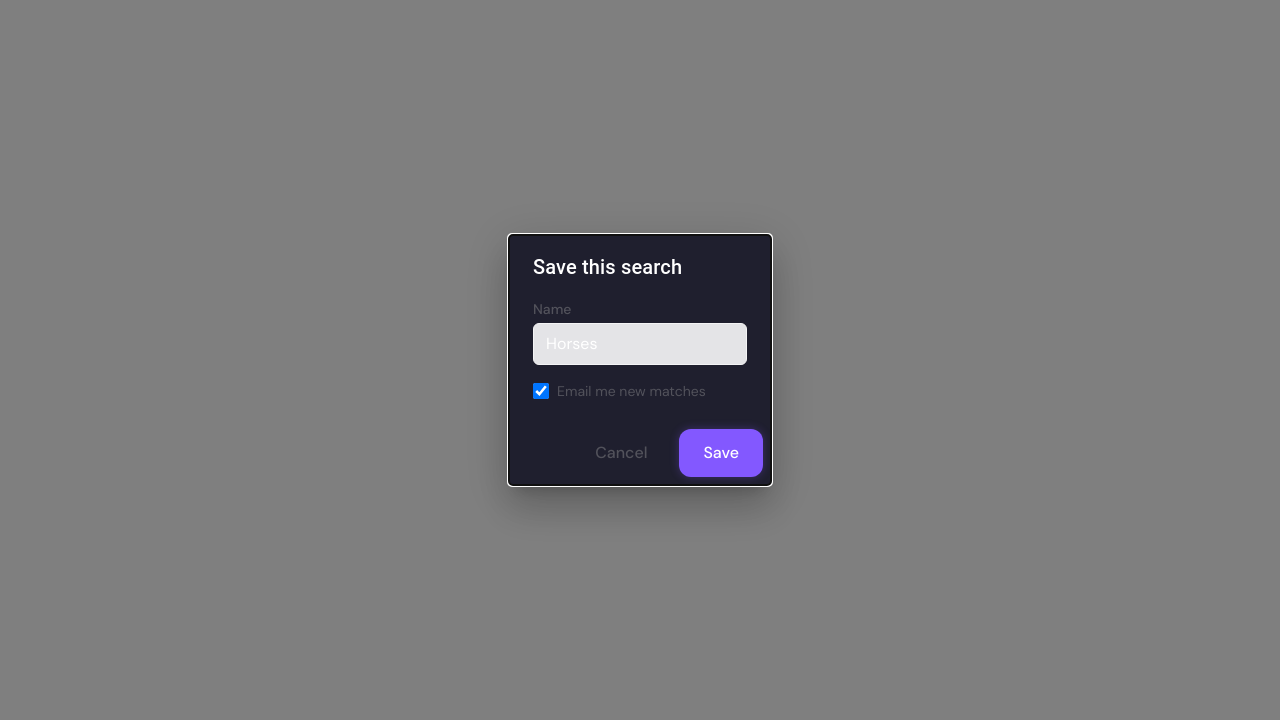
Test case: SavedSearchFormDialog › shows an unknown 400 message verbatim
The image size is (1280, 720).
Click the button "Save": click(721, 453) [680, 429, 763, 477]
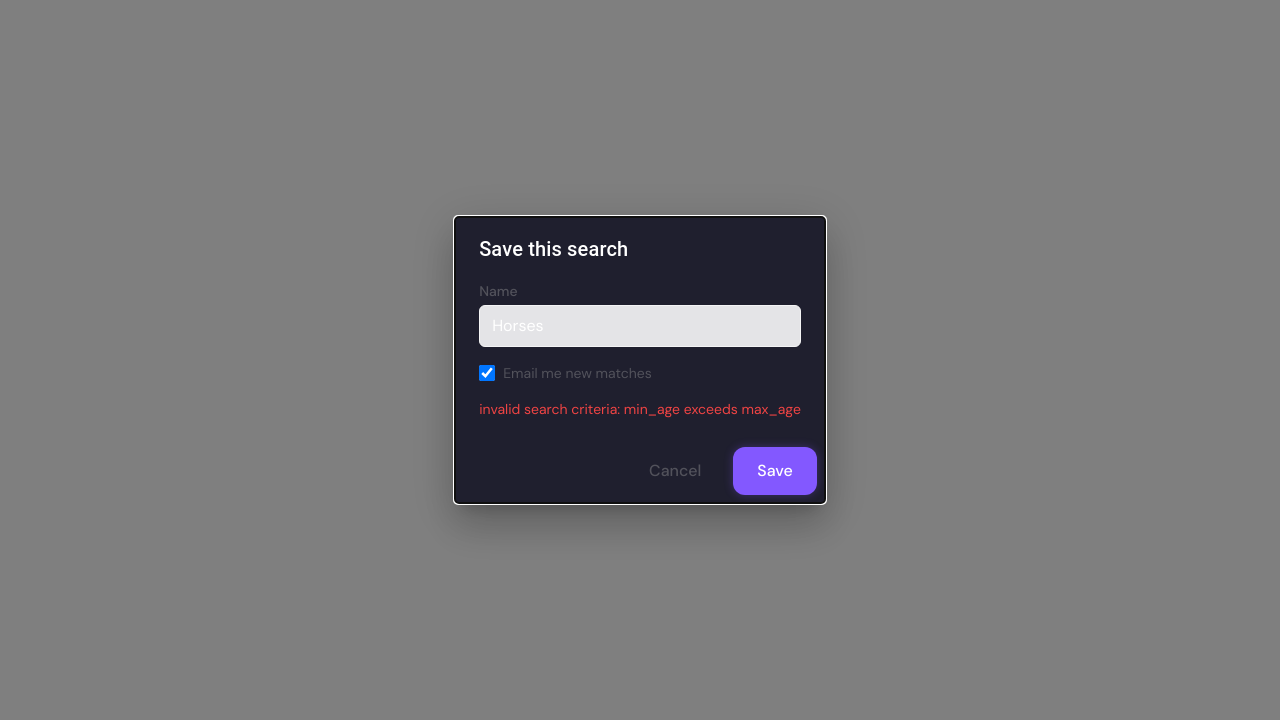
Check: the text "invalid search criteria: min_age exceeds max_age" is shown, box [479, 399, 801, 419]
